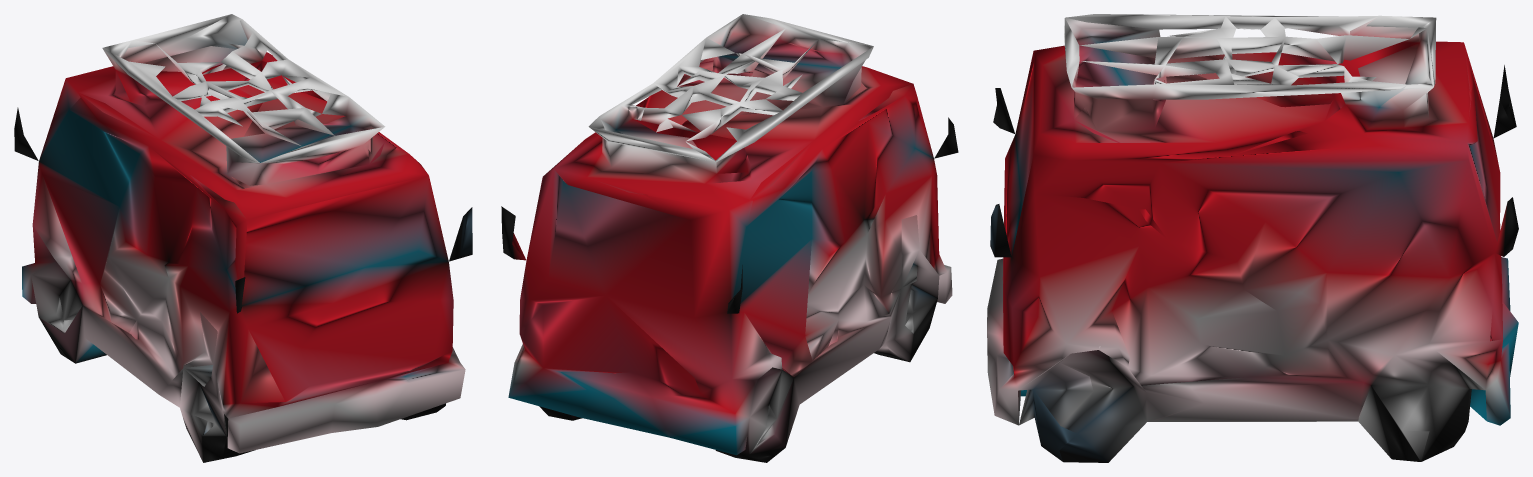
Rendered from gen3d-fire-truck-lod1.glb.
3 renders of one model, left to right at view 1: azimuth 30°, elevation 25°; view 2: azimuth 150°, elevation 25°; view 3: azimuth 270°, elevation 25°, orthographic. The views are drawn at different scales.
Parts seen in each view (by area): view 1: part_0; view 2: part_0; view 3: part_0.
Part boxes in pixels (bbox=[...]): part_0: bbox=[14, 14, 472, 462]; part_0: bbox=[501, 14, 958, 462]; part_0: bbox=[987, 14, 1518, 462].
Bounding box in the file's own units: 0.8335 × 0.9981 × 1.35.
